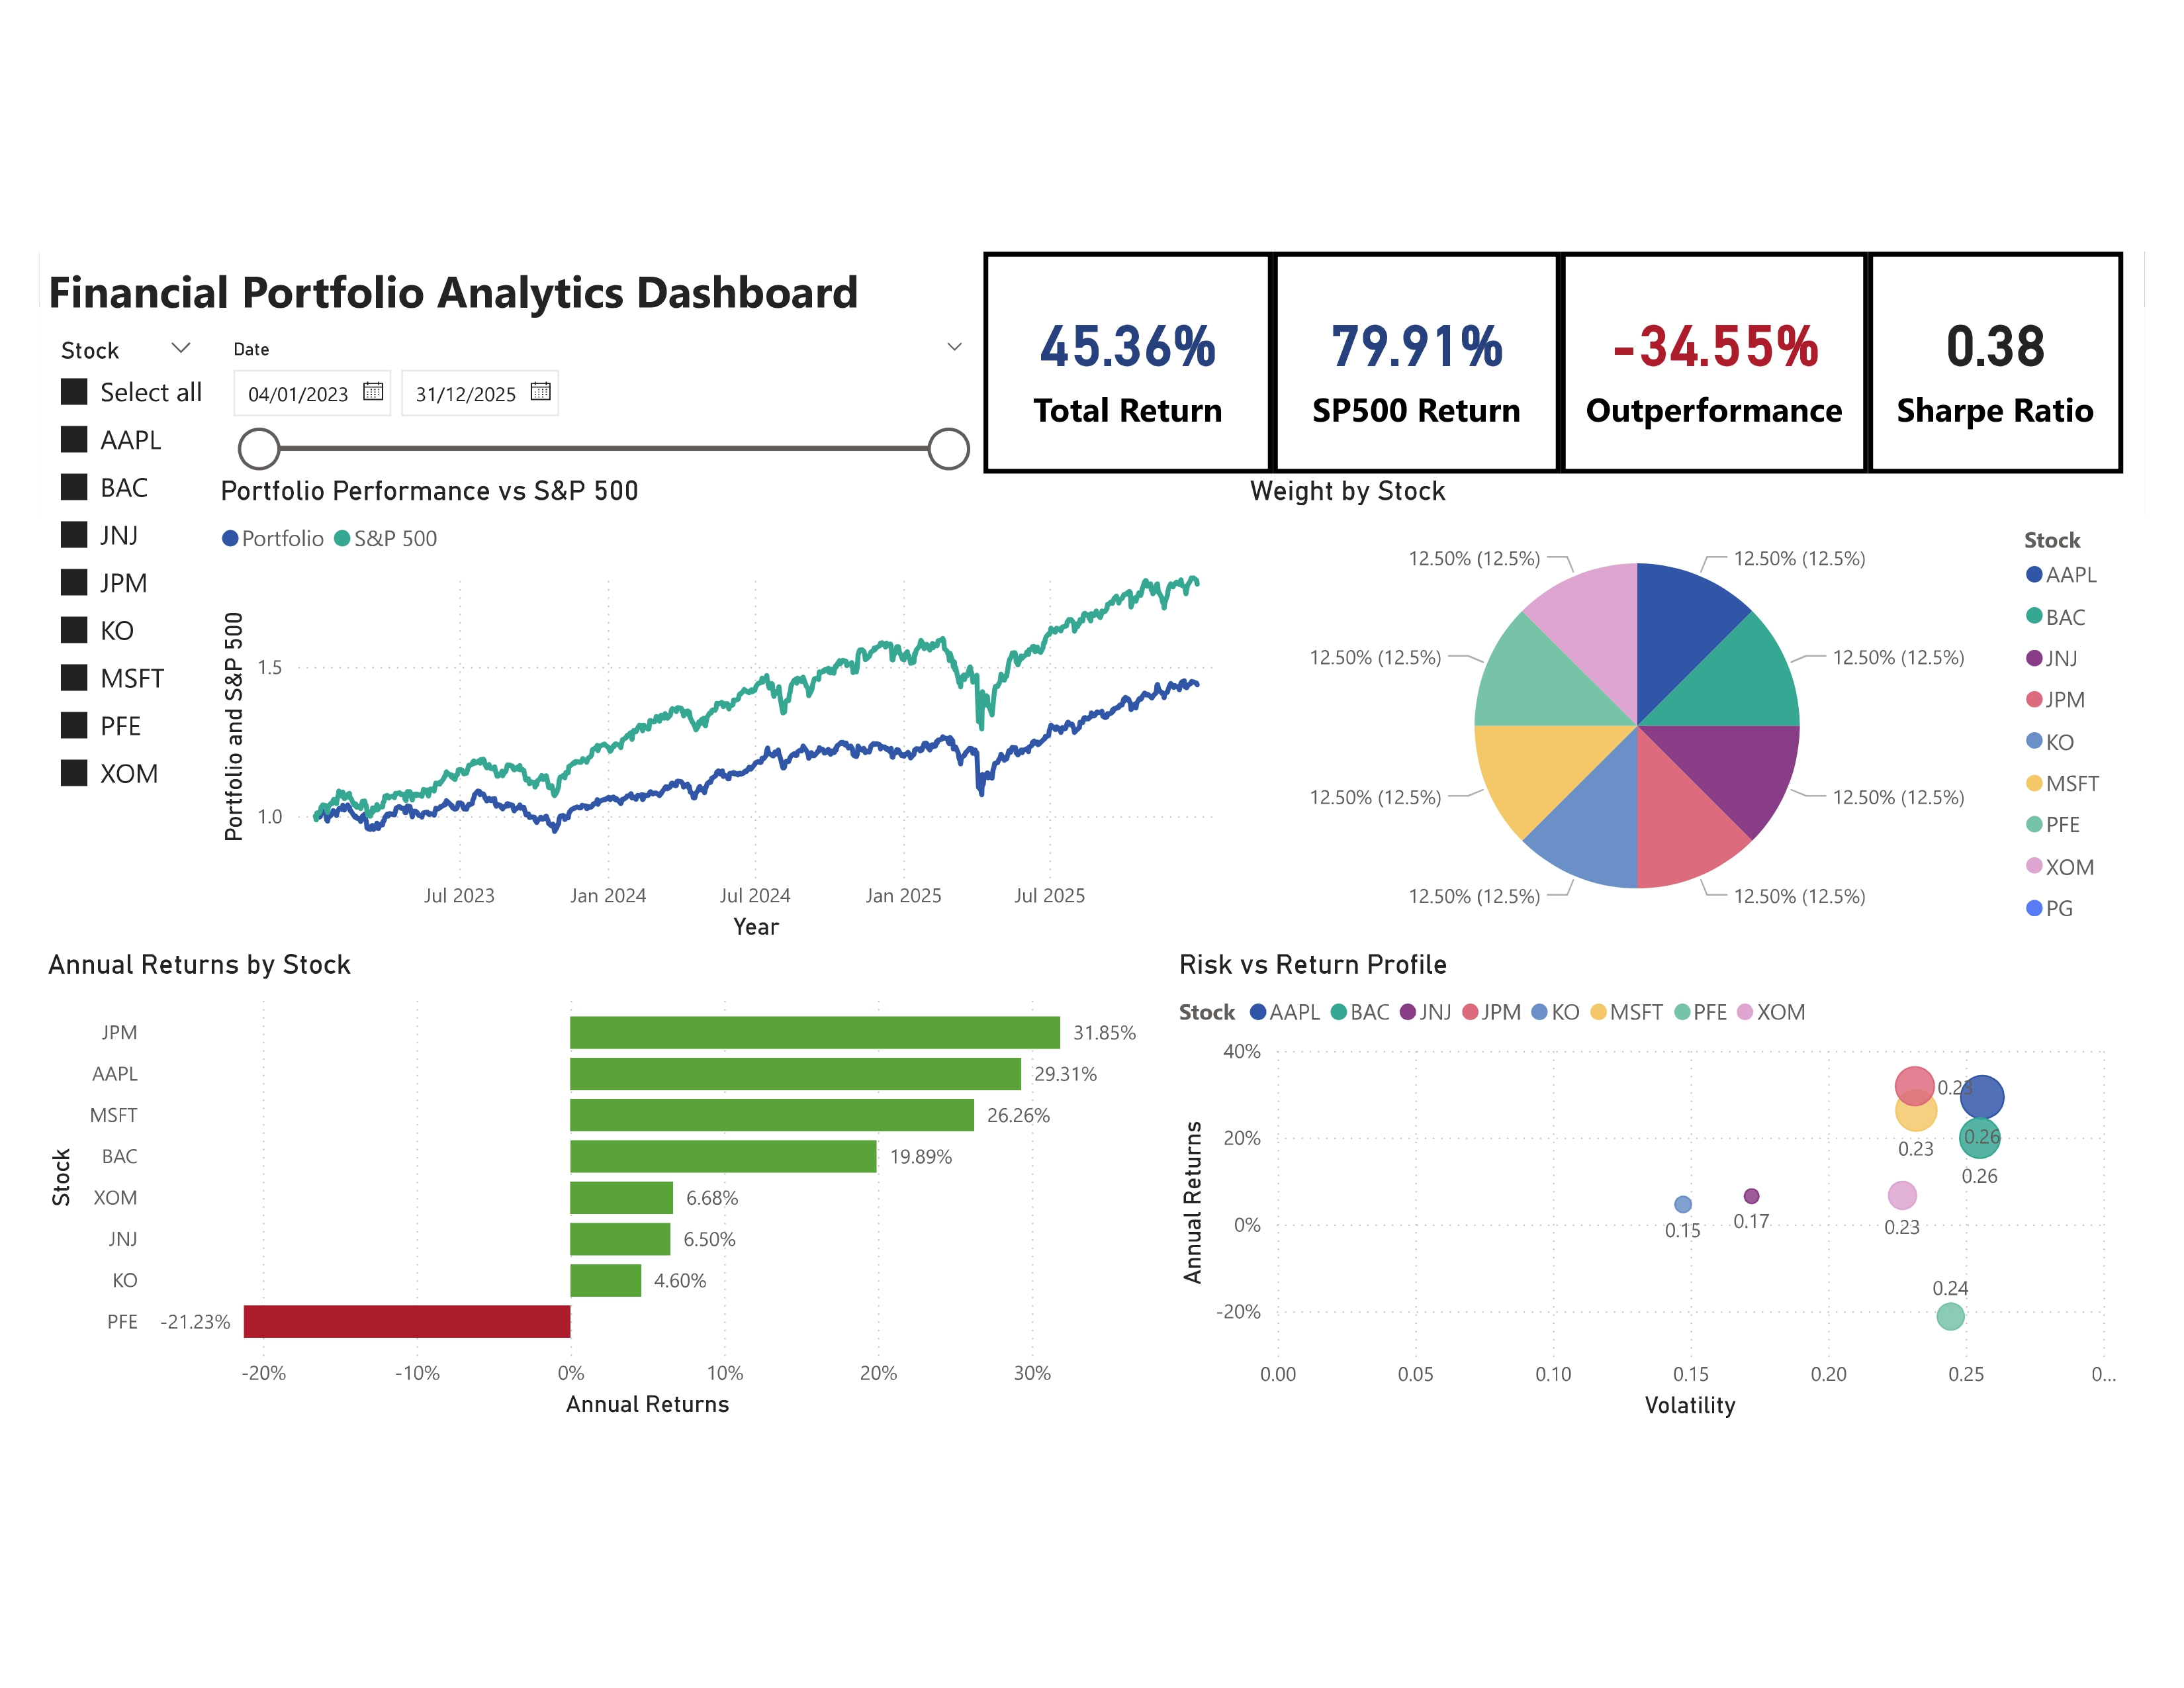

What the dashboard file says about the page in this screenshot:
{"tool":"powerbi","page":{"name":"Portfolio Overview","canvas":[1280,720],"ordinal":0},"visuals":[{"type":"card","fields":{"Values":["Returns.Total Return"]},"box":[573.6,0,176.1,135],"z":0},{"type":"card","fields":{"Values":["Returns.SP500 Return"]},"box":[749.6,0,175,135],"z":1000},{"type":"card","fields":{"Values":["Returns.Outperformance"]},"box":[925,0,187,135],"z":2000},{"type":"card","fields":{"Values":["Avg(Stock_Metrics.Sharpe Ratio)"]},"box":[1111.7,0,155.8,134.6],"z":3000},{"type":"lineChart","title":"Portfolio Performance vs S&P 500","fields":{"Y":["Sum(Returns.Cumulative Portfolio)","Sum(Returns.Cumulative S&P500)"],"Category":["Returns.Date.Variation.Date Hierarchy.Year","Returns.Date.Variation.Date Hierarchy.Quarter","Returns.Date.Variation.Date Hierarchy.Month","Returns.Date.Variation.Date Hierarchy.Day"]},"box":[104.8,135,626.5,288.4],"z":4000},{"type":"pieChart","title":"Weight by Stock","fields":{"Category":["Portfolio_setup.Stock"],"Y":["Sum(Portfolio_setup.Weight)"]},"box":[730.9,134.6,536.6,288.5],"z":5000},{"type":"clusteredBarChart","title":"Annual Returns by Stock","fields":{"Y":["Sum(Stock_Metrics.Annual Return)"],"Category":["Stock_Metrics.Stock"]},"box":[0,423.1,687.6,290.4],"z":6000},{"type":"scatterChart","title":"Risk vs Return Profile","fields":{"X":["Stock_Metrics.Volatility"],"Y":["Sum(Stock_Metrics.Annual Return)"],"Size":["Avg(Stock_Metrics.Beta)"],"Series":["Stock_Metrics.Stock"]},"box":[688.1,423.4,580.1,290.6],"z":7000},{"type":"slicer","fields":{"Values":["Returns.Date"]},"box":[104.8,47.5,468.8,87.5],"z":8000},{"type":"slicer","fields":{"Values":["Stock_Metrics.Stock"]},"box":[0,47.1,104.8,376],"z":9000},{"type":"textbox","box":[0,0,573.6,47.5],"z":11000}]}

Visuals, with their boxes on the page's 1280x720 design canvas (x1, y1, x2, y2). These are canvas units, not pixel positions in the 2184x1688 screenshot, which may show the page scaled, cropped or inside an application window:
card - Returns.Total Return: (left=574, top=0, right=750, bottom=135)
card - Returns.SP500 Return: (left=750, top=0, right=925, bottom=135)
card - Returns.Outperformance: (left=925, top=0, right=1112, bottom=135)
card - Avg(Stock_Metrics.Sharpe Ratio): (left=1112, top=0, right=1268, bottom=135)
"Portfolio Performance vs S&P 500" lineChart: (left=105, top=135, right=731, bottom=423)
"Weight by Stock" pieChart: (left=731, top=135, right=1268, bottom=423)
"Annual Returns by Stock" clusteredBarChart: (left=0, top=423, right=688, bottom=714)
"Risk vs Return Profile" scatterChart: (left=688, top=423, right=1268, bottom=714)
slicer - Returns.Date: (left=105, top=48, right=574, bottom=135)
slicer - Stock_Metrics.Stock: (left=0, top=47, right=105, bottom=423)
textbox: (left=0, top=0, right=574, bottom=48)
